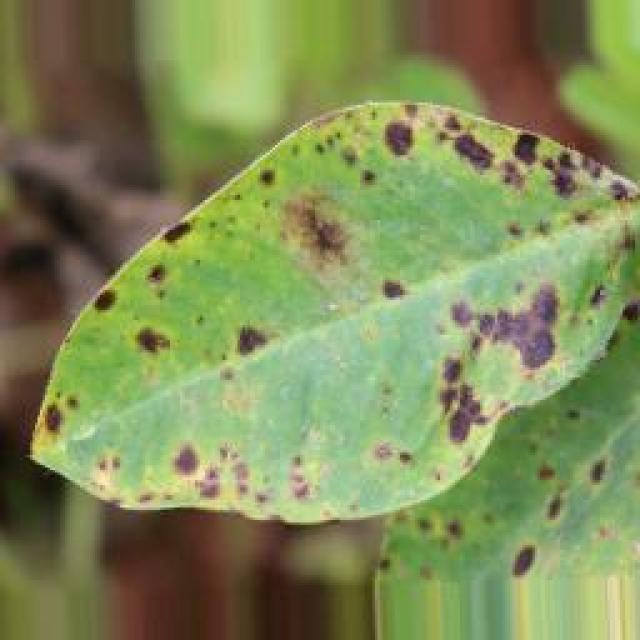Yellowish: (40, 80, 640, 578)
